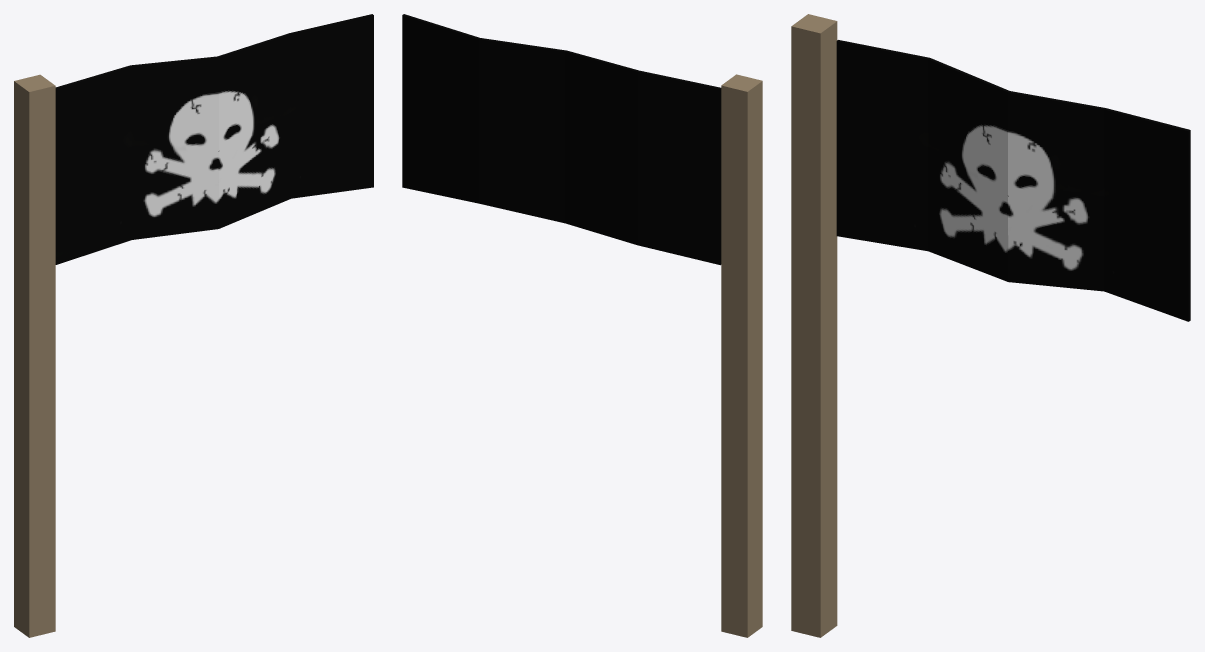
File: Flag-Textured.fbx
3 views of the same model, side by side, from view 1: azimuth 30°, elevation 25°; view 2: azimuth 150°, elevation 25°; view 3: azimuth 330°, elevation 25° (orthographic). The views are drawn at different scales.
Visible parts, largest first — view 1: Flag Textured; view 2: Flag Textured; view 3: Flag Textured.
Boxes of the visible parts, x1,y1,x2,y2 form: Flag Textured: (14,14,373,637); Flag Textured: (402,14,762,637); Flag Textured: (791,14,1190,637).
Size of the model in its own units: 85.66 by 127 by 6.42.
